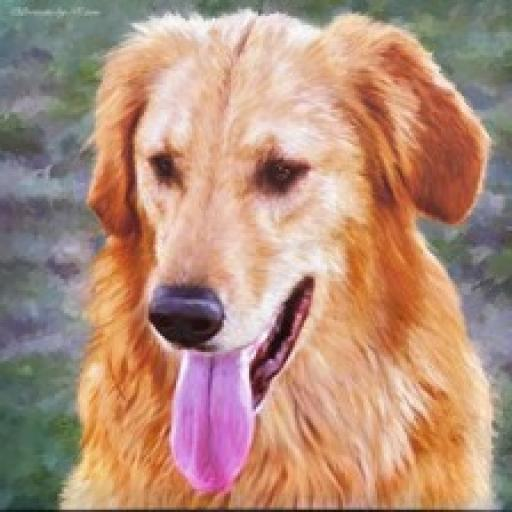dog: (46, 7, 505, 512)
